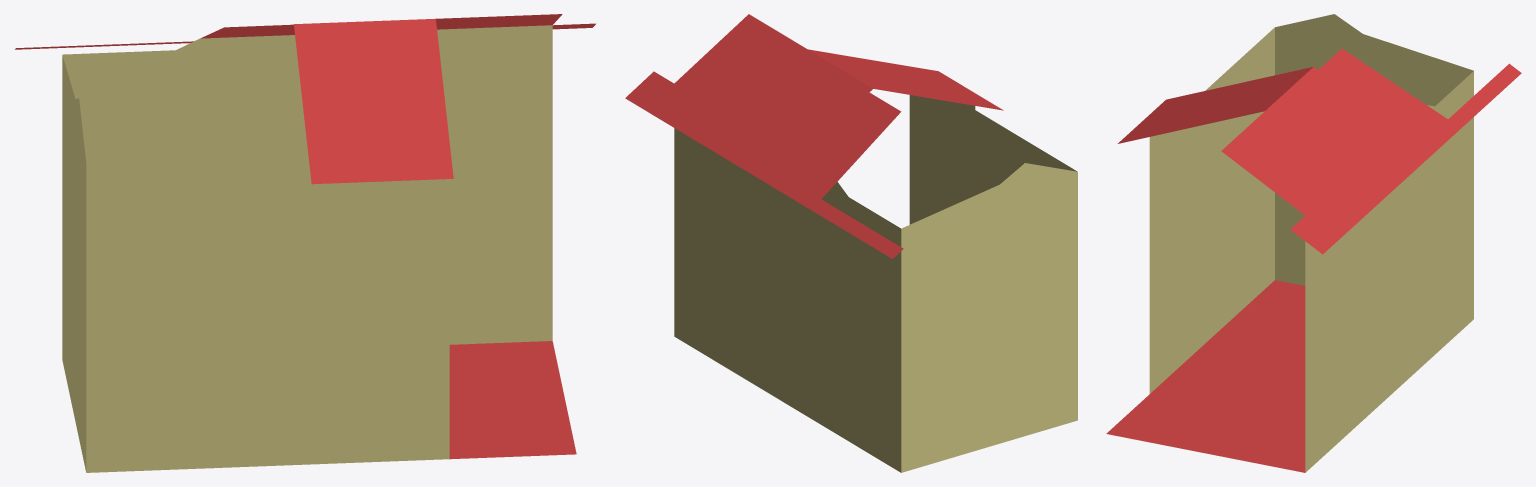
The picture shows the model from 3 angles, left to right: view 1: azimuth 30°, elevation 25°; view 2: azimuth 150°, elevation 25°; view 3: azimuth 270°, elevation 25°; orthographic projection. The views are drawn at different scales.
Bounding box in the file's own units: 10.52 × 8.67 × 7.03.
